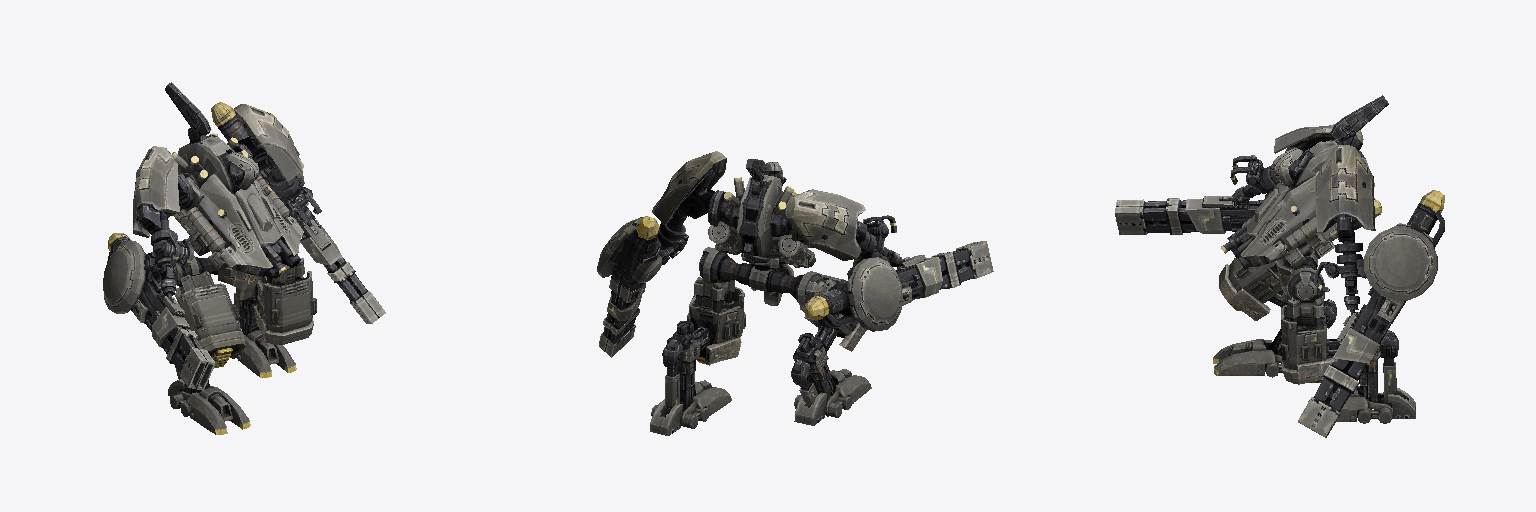
3 views of the same model, side by side, from view 1: azimuth 30°, elevation 25°; view 2: azimuth 150°, elevation 25°; view 3: azimuth 270°, elevation 25° (orthographic).
Parts seen in each view (by area): view 1: LP_Body; view 2: LP_Body; view 3: LP_Body.
Boxes of the visible parts, box(x1,y1,x2,y2) form: LP_Body: box(103, 82, 385, 434); LP_Body: box(597, 151, 993, 435); LP_Body: box(1115, 95, 1444, 437).
Bounding box in the file's own units: 87.7 × 81.86 × 85.61.
Materials: 1 (1 with a texture image).